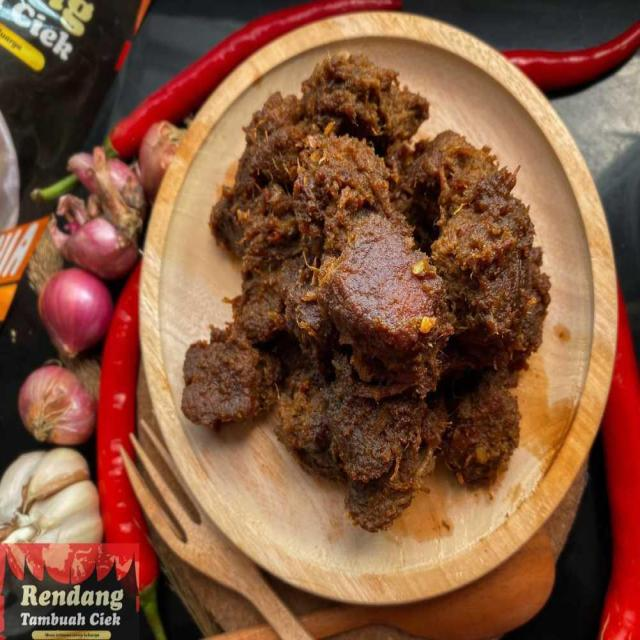Rendang: (175, 52, 558, 551)
